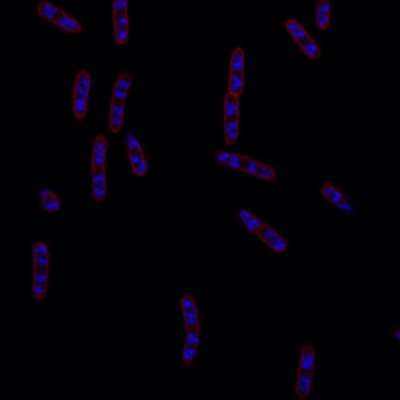Control: (220, 47, 247, 147), (211, 147, 278, 181), (174, 292, 202, 366), (283, 15, 323, 62), (34, 0, 82, 37), (108, 70, 133, 135), (87, 133, 108, 204), (293, 343, 317, 400), (29, 239, 51, 301), (71, 66, 93, 118)
Oblique: (230, 203, 290, 253), (319, 180, 359, 214), (124, 129, 149, 178), (34, 183, 63, 214)
